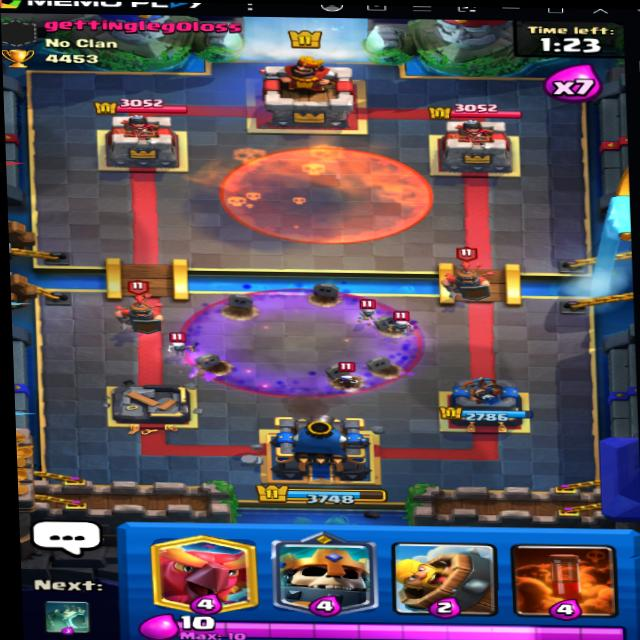graveyard: (176, 286, 429, 403)
poison: (223, 139, 435, 245)
royal-recruits: (432, 249, 508, 309), (104, 283, 162, 338)
skeleton: (374, 306, 420, 336), (333, 360, 374, 387), (170, 333, 200, 356), (354, 305, 379, 325)
